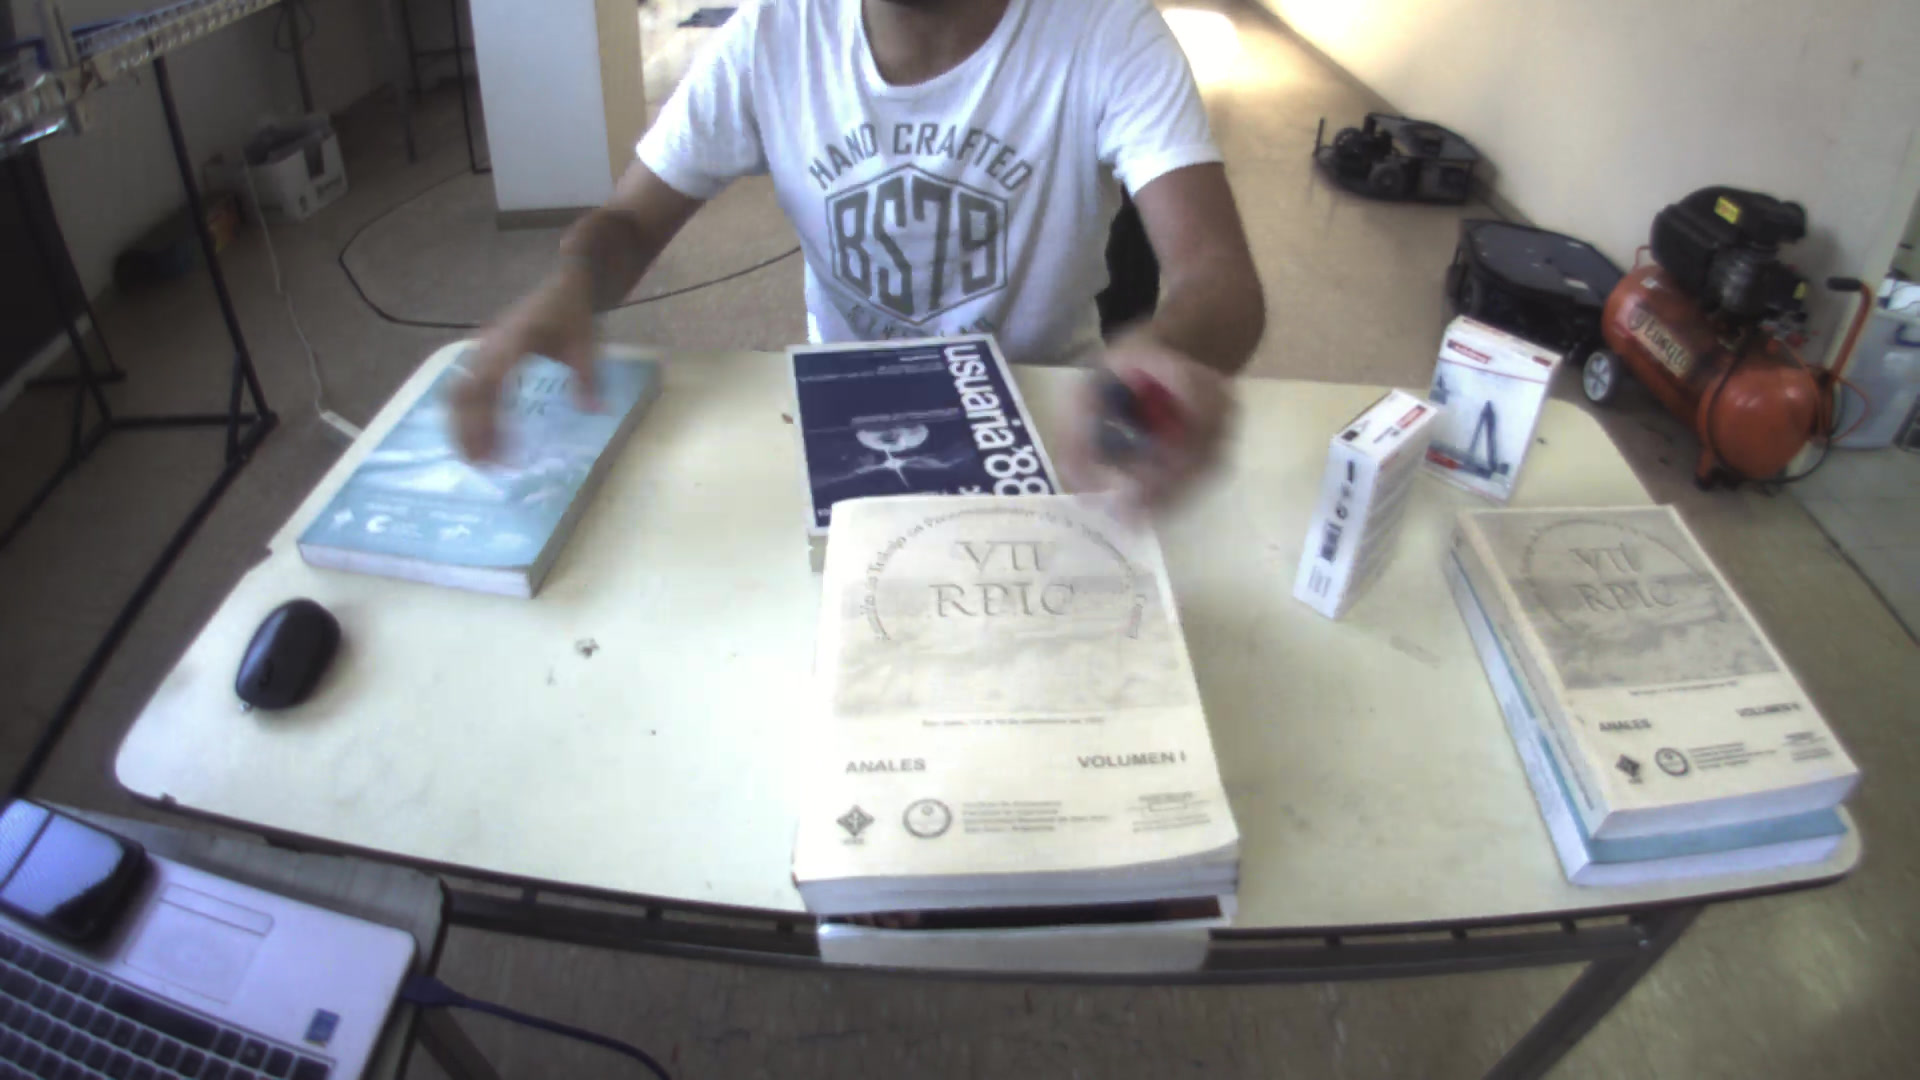hand: (438, 255, 615, 472)
